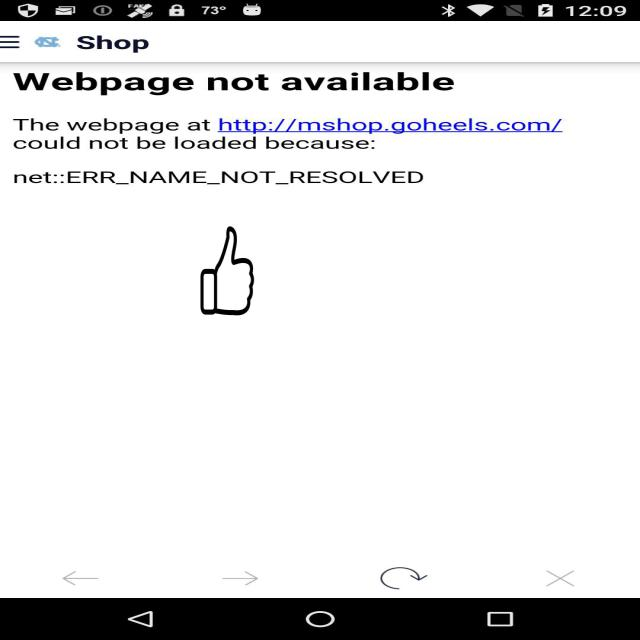privacy zuckering: (200, 227, 255, 316)
